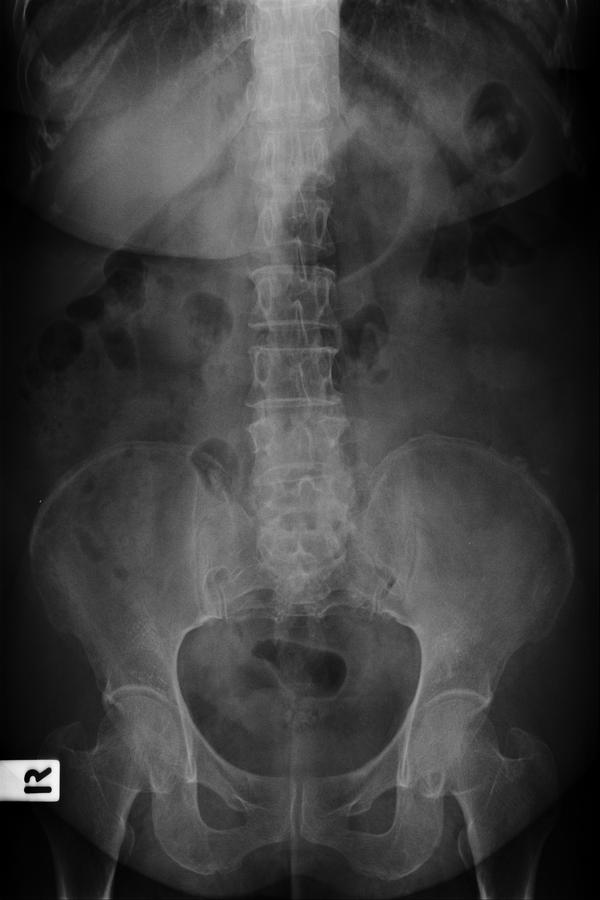lumbar scoliosis: (243, 191, 357, 583)
